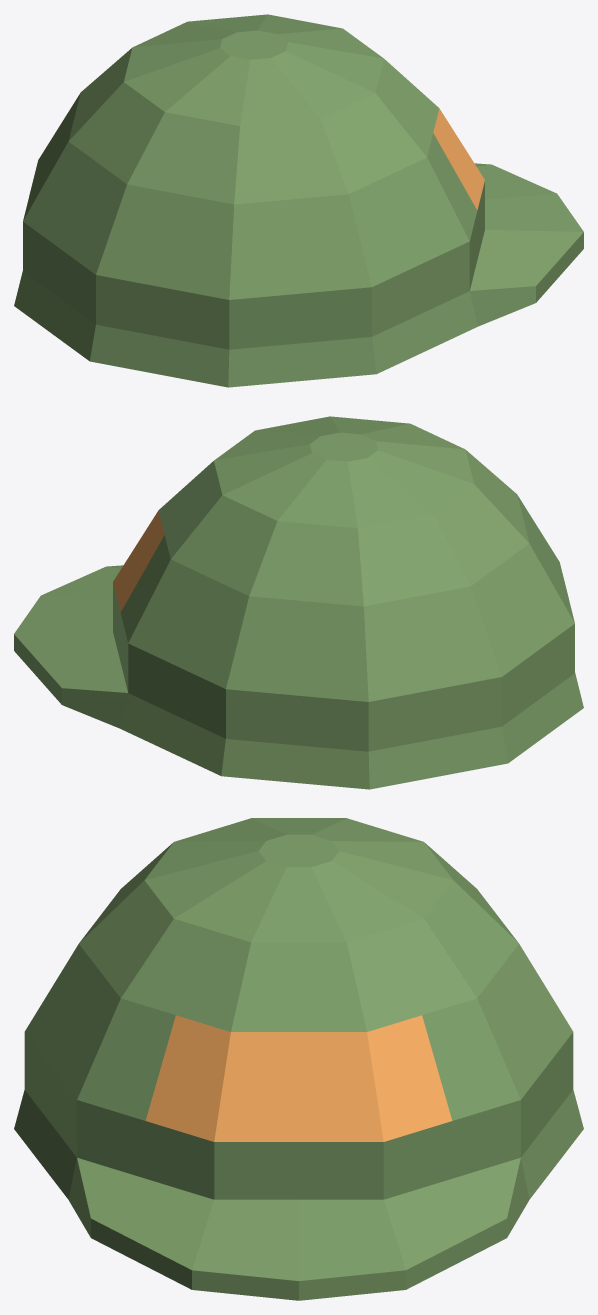
Rendered from cap.fbx.
3 renders of one model, top to bottom at view 1: azimuth 30°, elevation 25°; view 2: azimuth 150°, elevation 25°; view 3: azimuth 270°, elevation 25°, orthographic. The views are drawn at different scales.
Visible parts, largest first — view 1: cap; view 2: cap; view 3: cap.
Part boxes in pixels (x1,y1,x2,y2): cap: [14, 14, 583, 387]; cap: [14, 416, 583, 789]; cap: [14, 818, 583, 1300].
Size of the model in its own units: 172 by 77.72 by 144.
